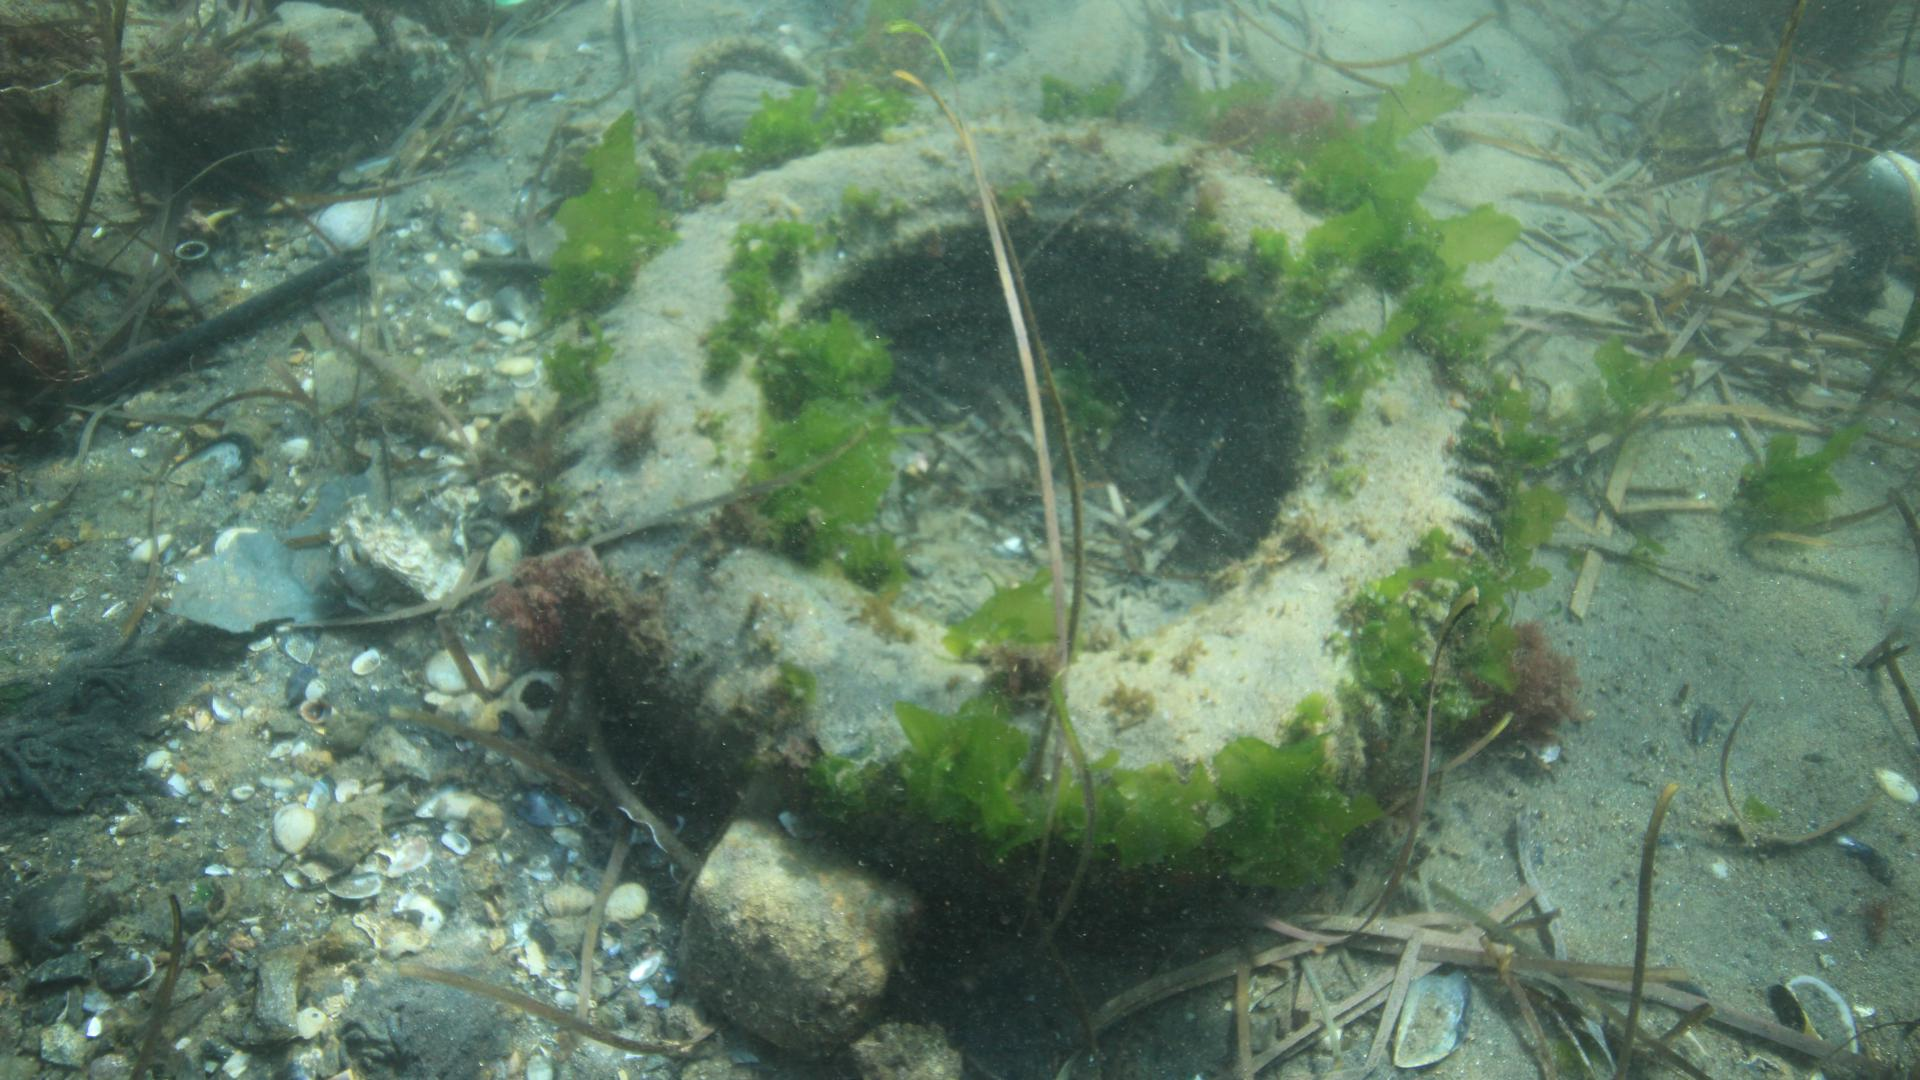rope: (653, 20, 796, 170)
tire: (545, 124, 1503, 973)
